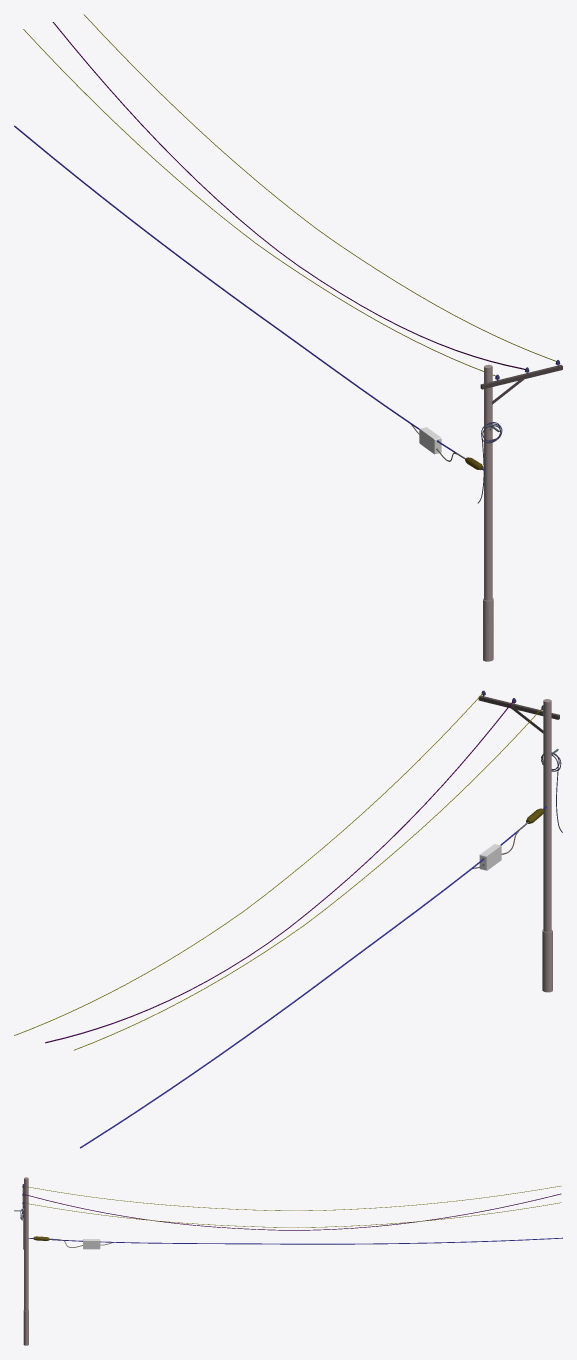
File: Poste 2_UV.fbx
3 views of the same model, one above another, from view 1: azimuth 30°, elevation 25°; view 2: azimuth 150°, elevation 25°; view 3: azimuth 270°, elevation 25° (orthographic). The views are drawn at different scales.
Parts seen in each view (by area): view 1: Cylinder024, Cylinder052, Cylinder027; view 2: Cylinder024, Cylinder052, Cylinder027, Cylinder026, Cylinder038; view 3: Cylinder024, Cylinder052, Cylinder027, Cylinder038, Cylinder026.
Boxes of the visible parts, bbox=[...] form: Cylinder024: bbox=[483, 364, 493, 661]; Cylinder052: bbox=[14, 125, 483, 470]; Cylinder027: bbox=[52, 22, 524, 369]; Cylinder024: bbox=[542, 699, 552, 992]; Cylinder052: bbox=[80, 806, 546, 1148]; Cylinder027: bbox=[45, 701, 513, 1043]; Cylinder026: bbox=[73, 708, 542, 1050]; Cylinder038: bbox=[14, 693, 482, 1035]; Cylinder024: bbox=[23, 1177, 28, 1345]; Cylinder052: bbox=[28, 1237, 562, 1244]; Cylinder027: bbox=[24, 1193, 561, 1230]; Cylinder038: bbox=[25, 1202, 561, 1227]; Cylinder026: bbox=[24, 1185, 561, 1210].
Bounding box in the file's own units: 56.02 × 186 × 556.
